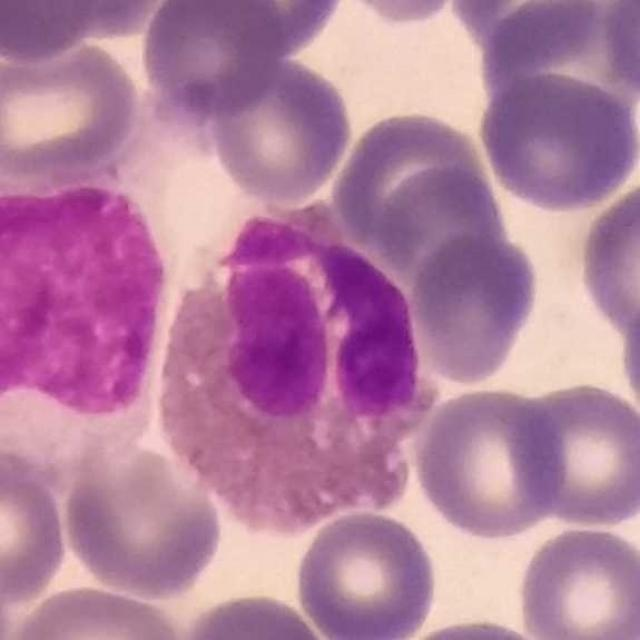Eosinophil: (164, 218, 428, 534)
Monocyte: (0, 157, 162, 487)
RBC: (58, 435, 228, 602), (409, 383, 568, 542), (327, 106, 493, 258), (474, 69, 640, 214), (0, 32, 145, 187), (405, 228, 544, 389), (206, 56, 354, 206), (475, 2, 639, 132), (507, 377, 640, 531), (290, 506, 441, 640), (138, 0, 287, 119), (374, 159, 505, 287), (514, 521, 640, 640), (0, 443, 73, 609), (2, 581, 194, 640), (574, 177, 640, 346), (447, 0, 607, 62), (182, 0, 350, 58), (173, 587, 337, 640), (0, 0, 107, 63), (385, 613, 562, 640), (599, 0, 640, 105), (333, 0, 476, 27), (616, 279, 640, 437)
